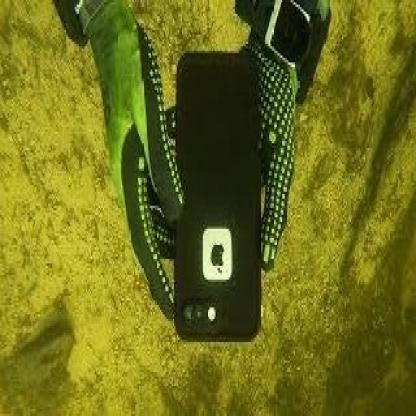cellphone: (174, 51, 263, 342)
